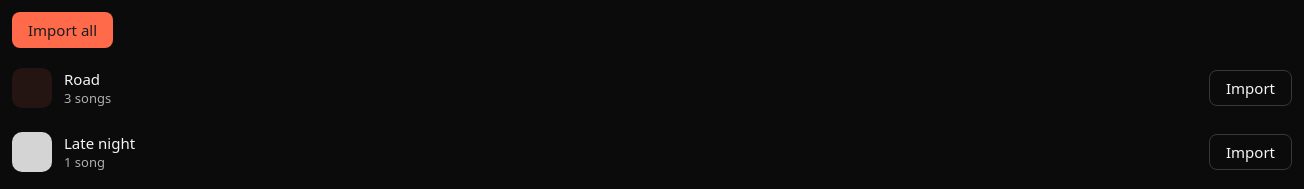
YouTubePlaylists › imports every playlist with Import all and links each one
The width and height of the screenshot is (1304, 189).
Check: the text "Road" is shown, box [64,69,100,89]
Click the button "Import all". click: (63, 30)
box: [12,12,113,48]
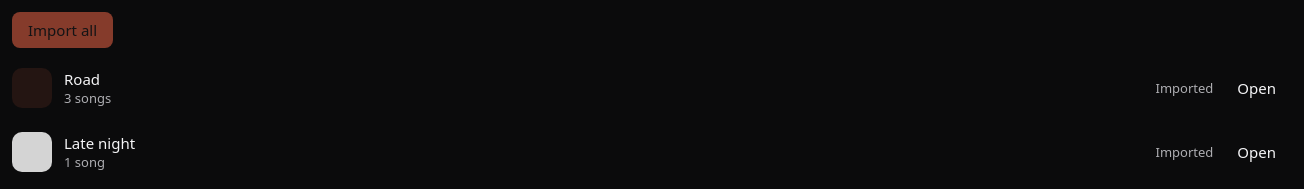
Check: the text "Imported" is shown 2 times, box [1156,79,1213,97]; [1156,143,1213,161]
Check: the button "Import all" is disabled, box [12,12,113,48]
